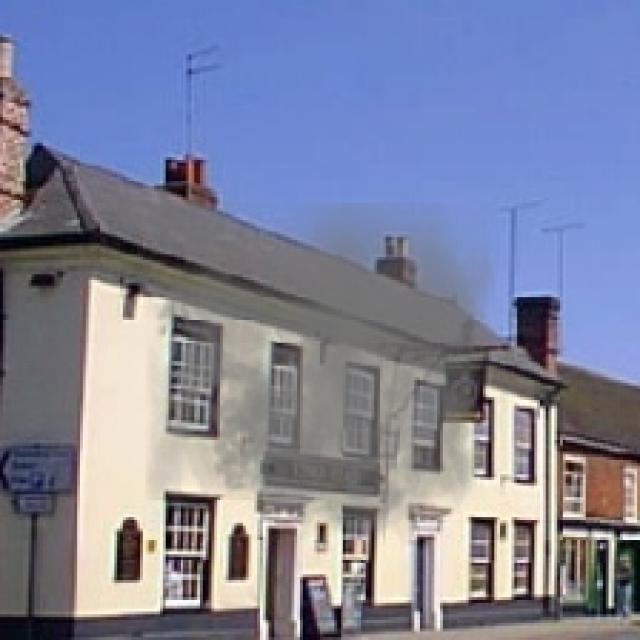Smoke: (146, 203, 497, 560)
